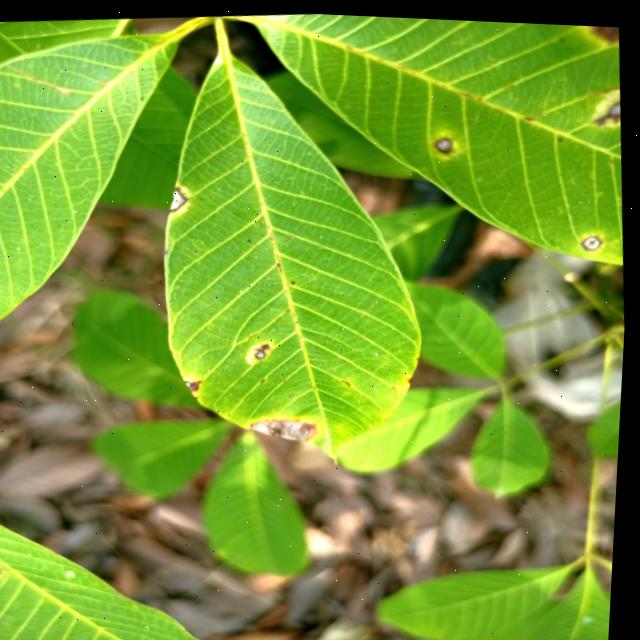Colletotrichum: (581, 229, 605, 245), (434, 132, 453, 150), (256, 347, 269, 357)
Leaf-Blight: (252, 412, 324, 444), (169, 188, 186, 208)
